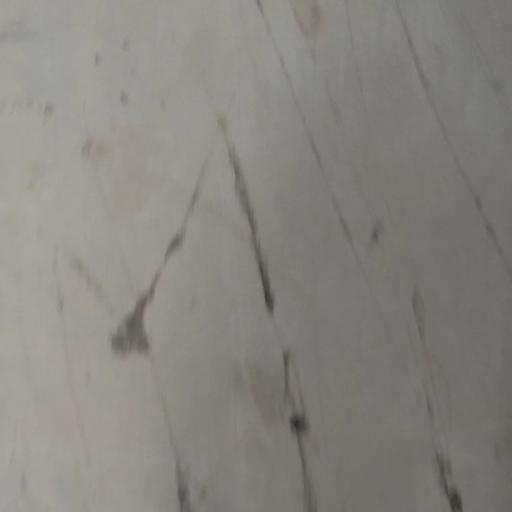stain: (58, 71, 374, 512), (242, 1, 512, 299), (397, 265, 508, 512)
